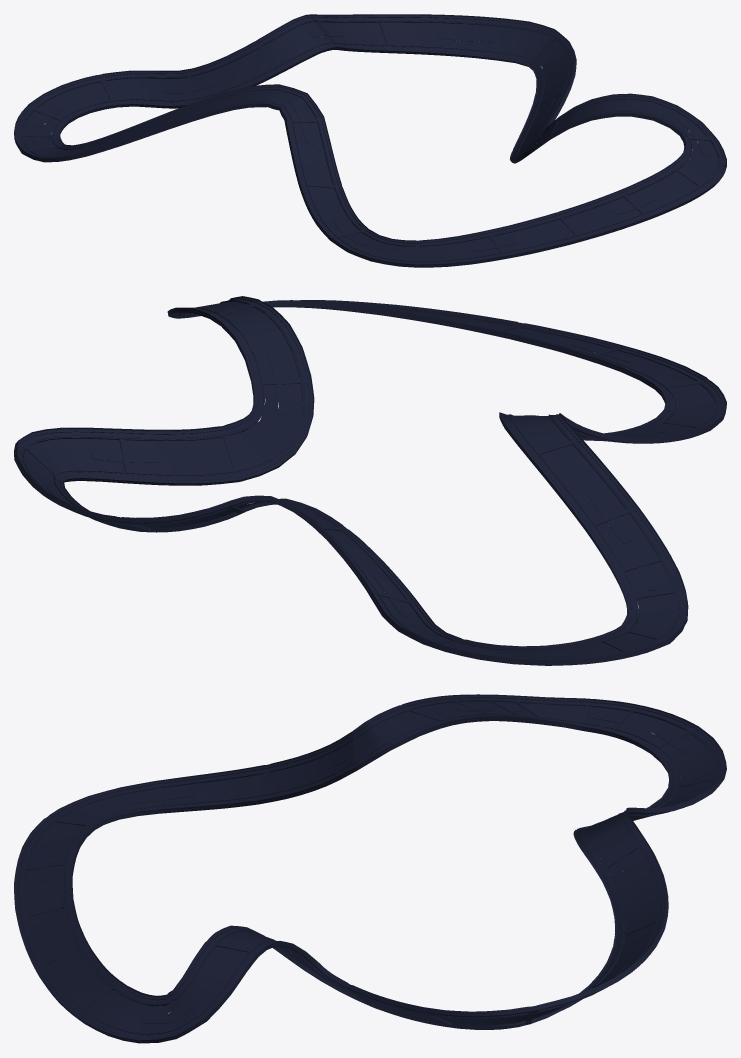
The model's file is Track.fbx.
The picture shows the model from 3 angles, top to bottom: view 1: azimuth 30°, elevation 25°; view 2: azimuth 150°, elevation 25°; view 3: azimuth 270°, elevation 25°; orthographic projection. The views are drawn at different scales.
Parts seen in each view (by area): view 1: Glass_Low_1; view 2: Glass_Low_1; view 3: Glass_Low_1.
Boxes of the visible parts, bbox=[...] form: Glass_Low_1: bbox=[14, 14, 726, 267]; Glass_Low_1: bbox=[14, 296, 726, 665]; Glass_Low_1: bbox=[14, 694, 726, 1043].
Size of the model in its own units: 7140 by 1401 by 6444.
